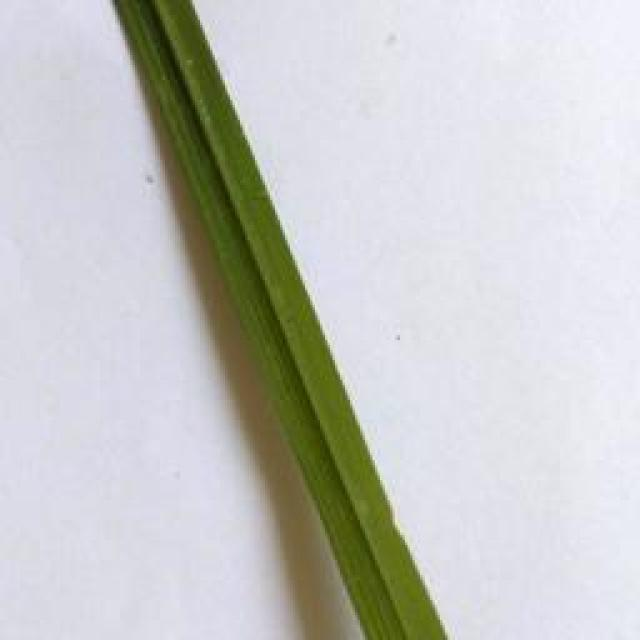Healthy-Plant: (118, 0, 446, 640)
